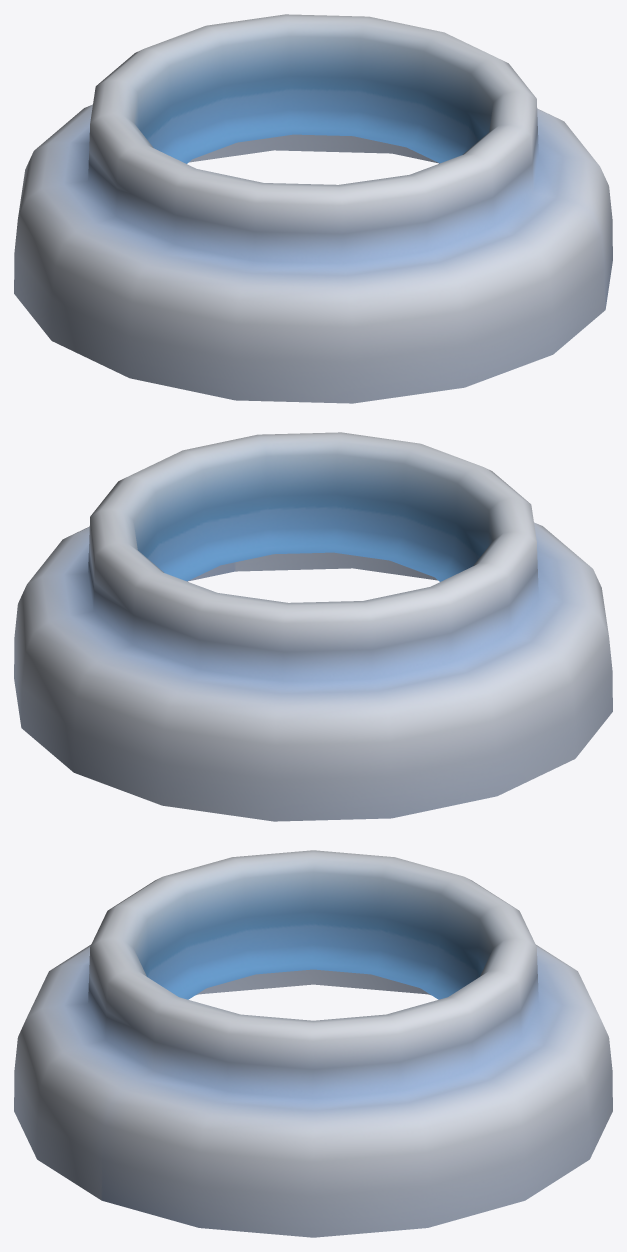
The model's file is BaseButton.fbx.
The picture shows the model from 3 angles, top to bottom: view 1: azimuth 30°, elevation 25°; view 2: azimuth 150°, elevation 25°; view 3: azimuth 270°, elevation 25°; orthographic projection.
Visible parts, largest first — view 1: Cylinder; view 2: Cylinder; view 3: Cylinder.
Part boxes in pixels (x1,y1,x2,y2): Cylinder: (14, 14, 612, 403); Cylinder: (14, 432, 612, 821); Cylinder: (14, 850, 612, 1237).
Bounding box in the file's own units: 241 × 76.71 × 241.
1 material, 1 textured.
